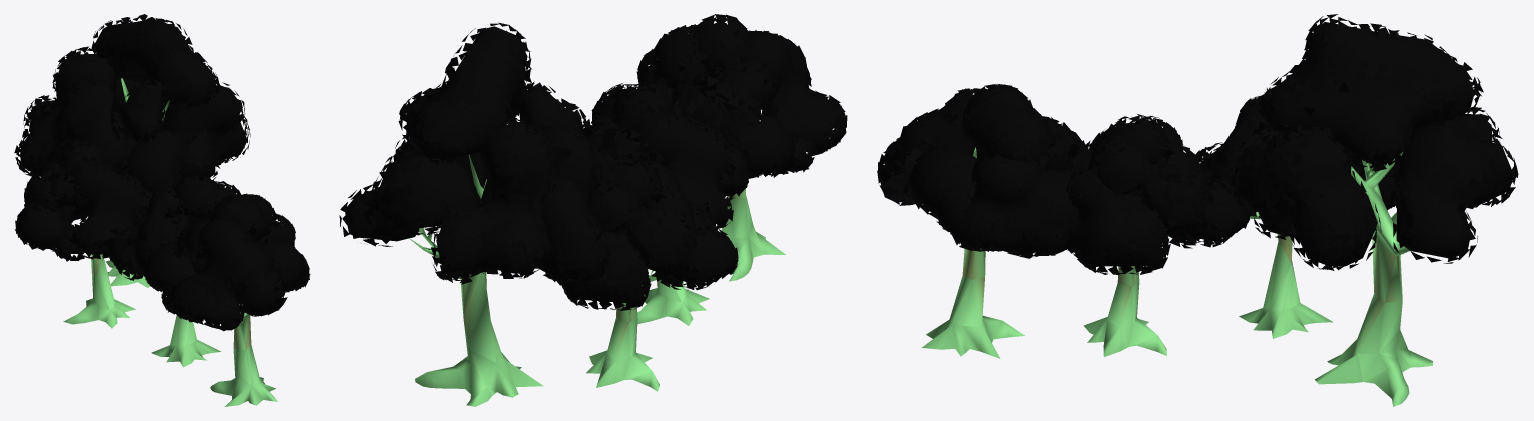
The model's file is SM_ENV_LKNVLD_TreeSet_D_Lod2.gltf.
The picture shows the model from 3 angles, left to right: view 1: azimuth 30°, elevation 25°; view 2: azimuth 150°, elevation 25°; view 3: azimuth 270°, elevation 25°; orthographic projection. The views are drawn at different scales.
Parts seen in each view (by area): view 1: SM_ENV_LKNVLD_TreeSet_D_Lod2; view 2: SM_ENV_LKNVLD_TreeSet_D_Lod2; view 3: SM_ENV_LKNVLD_TreeSet_D_Lod2.
Boxes of the visible parts, x1,y1,x2,y2 form: SM_ENV_LKNVLD_TreeSet_D_Lod2: (14,14,310,406); SM_ENV_LKNVLD_TreeSet_D_Lod2: (339,14,847,406); SM_ENV_LKNVLD_TreeSet_D_Lod2: (877,14,1518,406).
Bounding box in the file's own units: 13.49 × 13.93 × 22.41.
